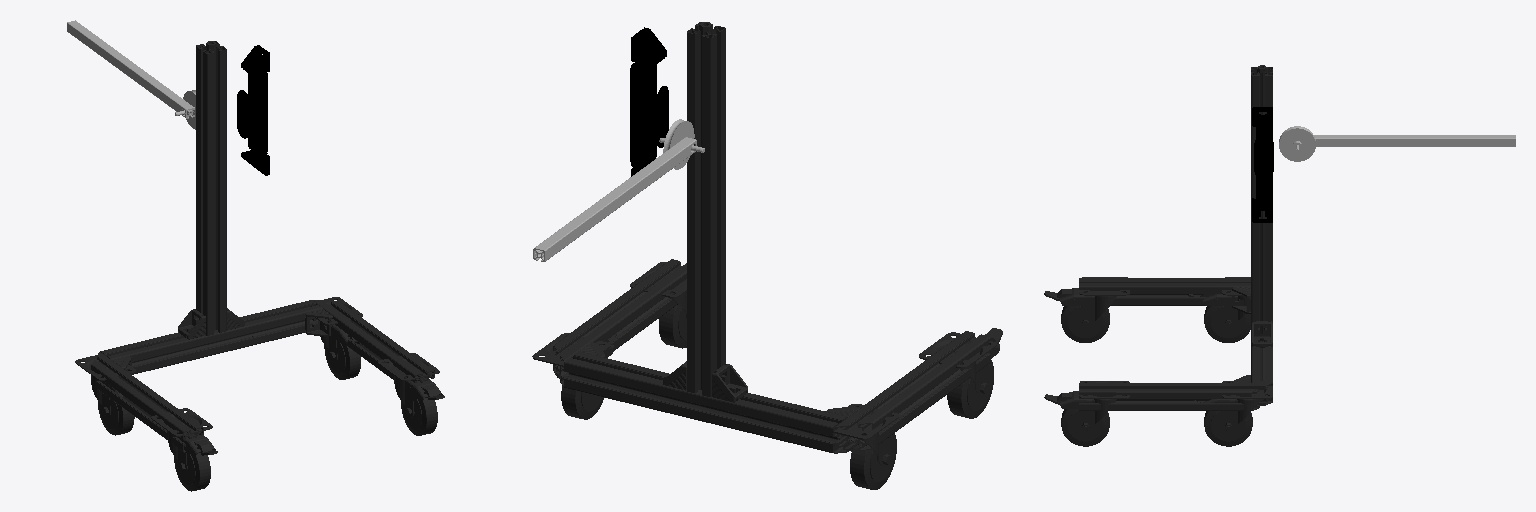
URDF robot description (uplift_description):
<robot
  name="uplift_description">
  <link
    name="base_link">
    <inertial>
      <origin
        xyz="0.043055 -0.079773 -0.01572"
        rpy="0 0 0" />
      <mass
        value="2.2964" />
      <inertia
        ixx="0.10196"
        ixy="-1.5956E-06"
        ixz="-8.965E-07"
        iyy="0.15945"
        iyz="0.020622"
        izz="0.16256" />
    </inertial>
    <visual>
      <origin
        xyz="0 0 0"
        rpy="0 0 0" />
      <geometry>
        <mesh
          filename="package://uplift_description/meshes/base_link.STL" />
      </geometry>
      <material
        name="">
        <color
          rgba="0.2 0.2 0.2 1" />
      </material>
    </visual>
    <collision>
      <origin
        xyz="0 0 0"
        rpy="0 0 0" />
      <geometry>
        <mesh
          filename="package://uplift_description/meshes/base_link.STL" />
      </geometry>
    </collision>
  </link>
  <link
    name="spine">
    <inertial>
      <origin
        xyz="-0.22006 -0.14805 0.0031018"
        rpy="0 0 0" />
      <mass
        value="1.4246" />
      <inertia
        ixx="0.029502"
        ixy="-7.1906E-05"
        ixz="-0.00046018"
        iyy="0.016555"
        iyz="0.0032803"
        izz="0.035666" />
    </inertial>
    <visual>
      <origin
        xyz="0 0 0"
        rpy="0 0 0" />
      <geometry>
        <mesh
          filename="package://uplift_description/meshes/spine.STL" />
      </geometry>
      <material
        name="">
        <color
          rgba="0.5 0.5 0.5 1" />
      </material>
    </visual>
    <collision>
      <origin
        xyz="0 0 0"
        rpy="0 0 0" />
      <geometry>
        <mesh
          filename="package://uplift_description/meshes/spine.STL" />
      </geometry>
    </collision>
  </link>
  <joint
    name="spine"
    type="prismatic">
    <origin
      xyz="0.26805 0.065066 0.62434"
      rpy="1.5708 0 0" />
    <parent
      link="base_link" />
    <child
      link="spine" />
    <axis
      xyz="0 1 0" />
    <limit
      lower="0"
      upper="0.27"
      effort="10"
      velocity="0.02" />
  </joint>
  <link
    name="camera">
    <inertial>
      <origin
        xyz="-0.023624 0.013679 -0.01952"
        rpy="0 0 0" />
      <mass
        value="0.21155" />
      <inertia
        ixx="5.5234E-05"
        ixy="-1.3407E-07"
        ixz="-5.5967E-07"
        iyy="0.00093358"
        iyz="-1.6853E-07"
        izz="0.00093588" />
    </inertial>
    <visual>
      <origin
        xyz="0 0 0"
        rpy="0 0 0" />
      <geometry>
        <mesh
          filename="package://uplift_description/meshes/camera.STL" />
      </geometry>
      <material
        name="">
        <color
          rgba="0 0 0 1" />
      </material>
    </visual>
    <collision>
      <origin
        xyz="0 0 0"
        rpy="0 0 0" />
      <geometry>
        <mesh
          filename="package://uplift_description/meshes/camera.STL" />
      </geometry>
    </collision>
  </link>
  <joint
    name="camera"
    type="fixed">
    <origin
      xyz="-0.135 -0.18 -0.02305"
      rpy="-3.1339 5.3352E-18 1.5708" />
    <parent
      link="spine" />
    <child
      link="camera" />
    <axis
      xyz="0 0 0" />
  </joint>
  <link
    name="arm">
    <inertial>
      <origin
        xyz="-0.12018 -0.074337 0.042241"
        rpy="0 0 0" />
      <mass
        value="0.13756" />
      <inertia
        ixx="0.00088813"
        ixy="0.0013812"
        ixz="-9.21E-05"
        iyy="0.0022595"
        iyz="-5.6976E-05"
        izz="0.0031197" />
    </inertial>
    <visual>
      <origin
        xyz="0 0 0"
        rpy="0 0 0" />
      <geometry>
        <mesh
          filename="package://uplift_description/meshes/arm.STL" />
      </geometry>
      <material
        name="">
        <color
          rgba="0.7 0.7 0.7 1" />
      </material>
    </visual>
    <collision>
      <origin
        xyz="0 0 0"
        rpy="0 0 0" />
      <geometry>
        <mesh
          filename="package://uplift_description/meshes/arm.STL" />
      </geometry>
    </collision>
  </link>
  <joint
    name="arm"
    type="revolute">
    <origin
      xyz="-0.1869 -0.20563 -0.073014"
      rpy="1.5708 -1.0148 -1.5708" />
    <parent
      link="spine" />
    <child
      link="arm" />
    <axis
      xyz="0 0 1" />
    <limit
      lower="-1.4"
      upper="1.2"
      effort="10"
      velocity="0.5" />
  </joint>
  <link
    name="wrist">
    <inertial>
      <origin
        xyz="0.0046873 0.0017237 0.018"
        rpy="0 0 0" />
      <mass
        value="0.085199" />
      <inertia
        ixx="0.00022169"
        ixy="-7.5283E-06"
        ixz="-6.5675E-08"
        iyy="4.4822E-05"
        iyz="-8.1245E-07"
        izz="0.00024725" />
    </inertial>
    <visual>
      <origin
        xyz="0 0 0"
        rpy="0 0 0" />
      <geometry>
        <mesh
          filename="package://uplift_description/meshes/wrist.STL" />
      </geometry>
      <material
        name="">
        <color
          rgba="0.9 0.9 0.9 0.2" />
      </material>
    </visual>
    <collision>
      <origin
        xyz="0 0 0"
        rpy="0 0 0" />
      <geometry>
        <mesh
          filename="package://uplift_description/meshes/wrist.STL" />
      </geometry>
    </collision>
  </link>
  <joint
    name="wrist"
    type="fixed">
    <origin
      xyz="-0.42839 -0.30931 0.055762"
      rpy="0.40194 1.5708 0" />
    <parent
      link="arm" />
    <child
      link="wrist" />
    <axis
      xyz="0 0 0" />
  </joint>
</robot>

--- Facts derived from the render (not from the file) ---
Views: 3 orthographic renders of the robot side by side, from view 1: azimuth 30°, elevation 25°; view 2: azimuth 150°, elevation 25°; view 3: azimuth 270°, elevation 25°.
Robot: uplift_description — 5 links, 4 joints (1 revolute, 1 prismatic, 2 fixed); root link base_link; default pose: every joint at zero.
Visible links, largest first — view 1: base_link, camera, arm; view 2: base_link, camera, arm; view 3: base_link, arm, camera.
Boxes of the visible links, box(x1,y1,x2,y2) form: base_link: box(75, 41, 444, 491); camera: box(237, 45, 269, 175); arm: box(67, 20, 195, 129); base_link: box(532, 22, 1002, 489); camera: box(630, 27, 668, 176); arm: box(533, 119, 704, 261); base_link: box(1044, 65, 1272, 446); arm: box(1279, 126, 1515, 161); camera: box(1252, 107, 1273, 222).
Bounding box of the posed robot: 0.59 × 0.9723 × 0.7411 m (x, y, z).
Meshes: 5 distinct files referenced, 3 mesh visuals loaded (3 binary STL); not drawn: 2 (reference not matched to a file when rendering).